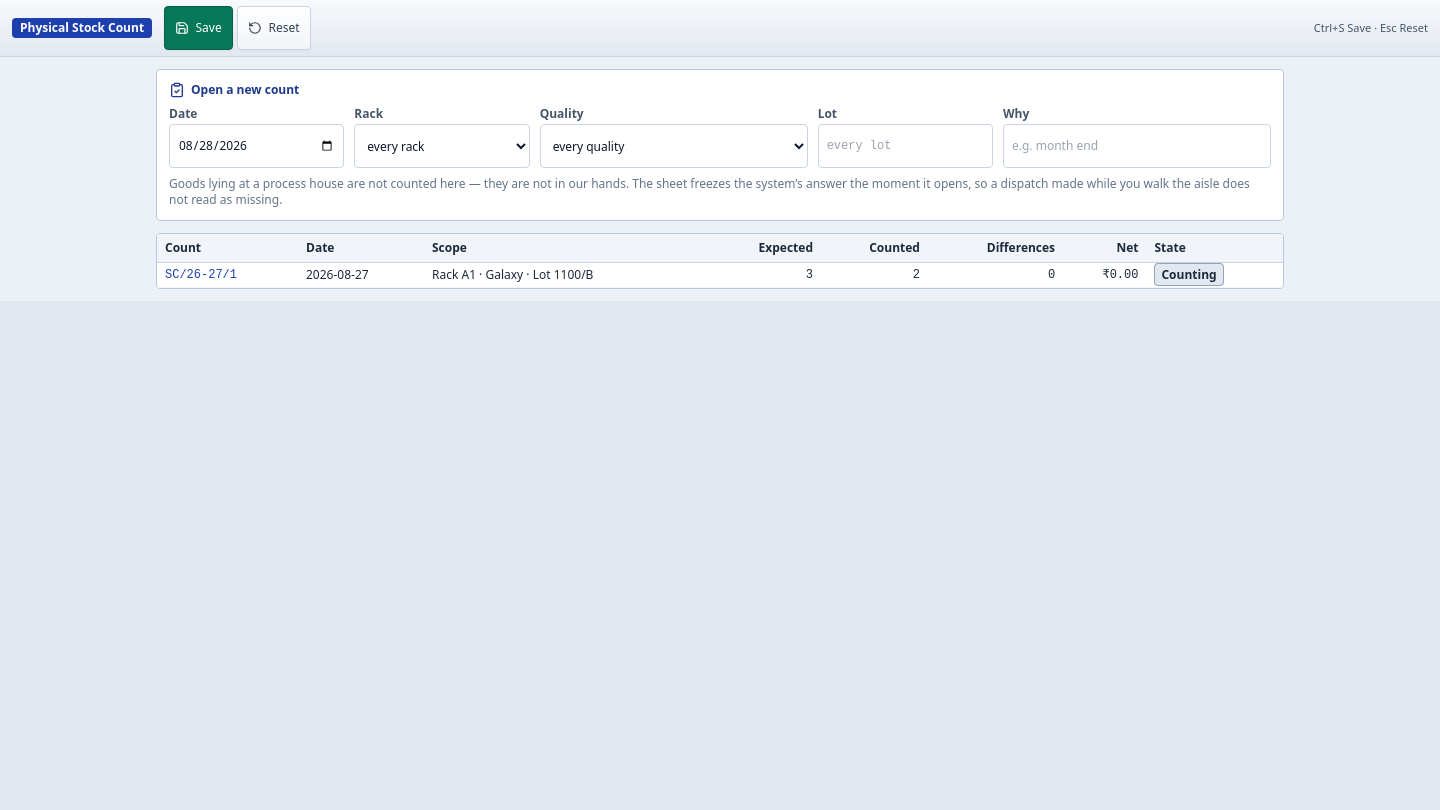
Test: answering the differences › nothing can be submitted until every difference has an answer and a reason
Click the text "SC/26-27/1": (228, 275) [157, 262, 298, 288]
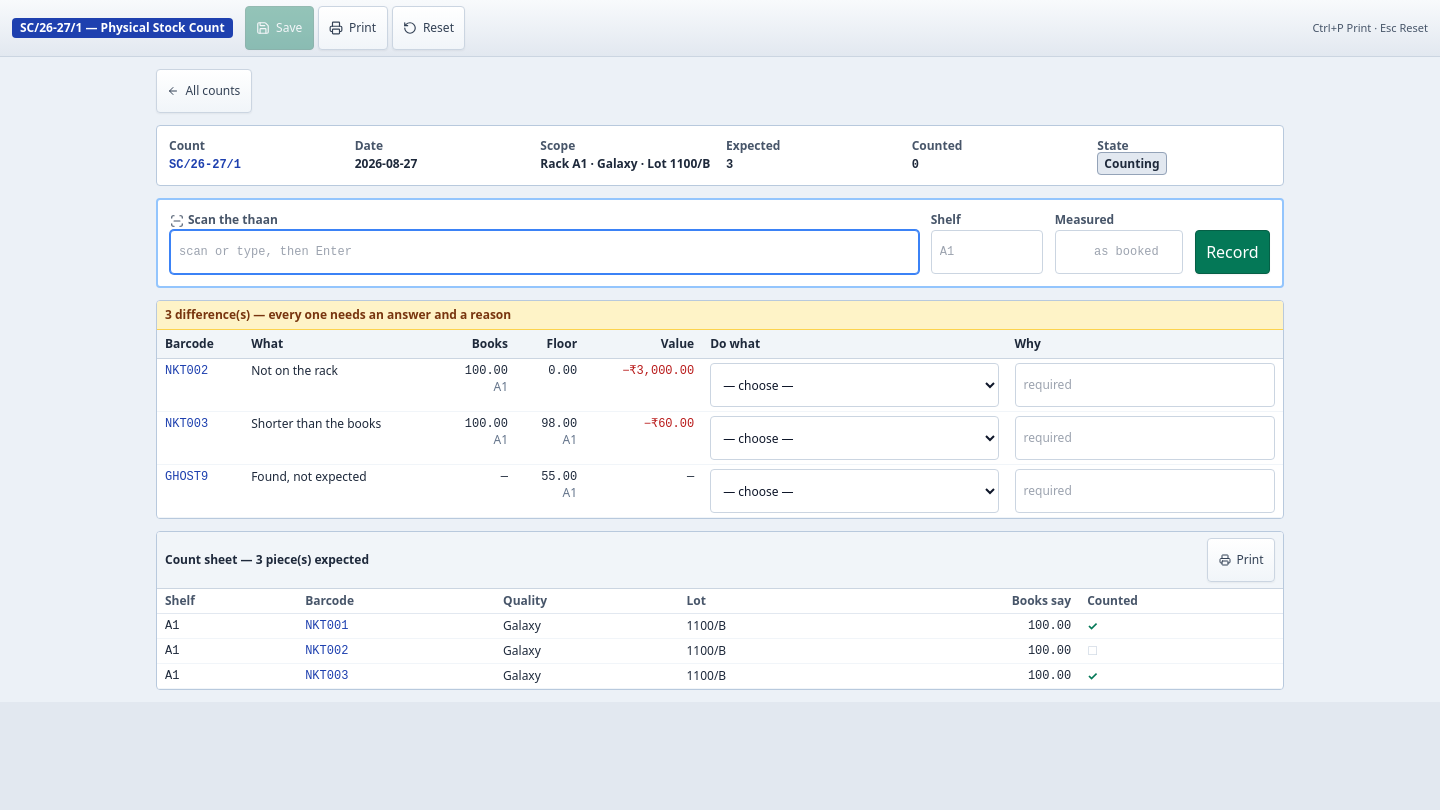
Check: the field labelled "Scan the thaan" is shown, box [170, 230, 919, 274]
Check: the button "Save" is disabled, box [245, 6, 314, 50]
Select "Write it off" in the dropdown in the row of "Not on the rack": (854, 385) [710, 363, 998, 407]
In the field with placeholder "required" in the row of "Not on the rack": (1145, 385) [1014, 363, 1275, 407], type "not in the godown"
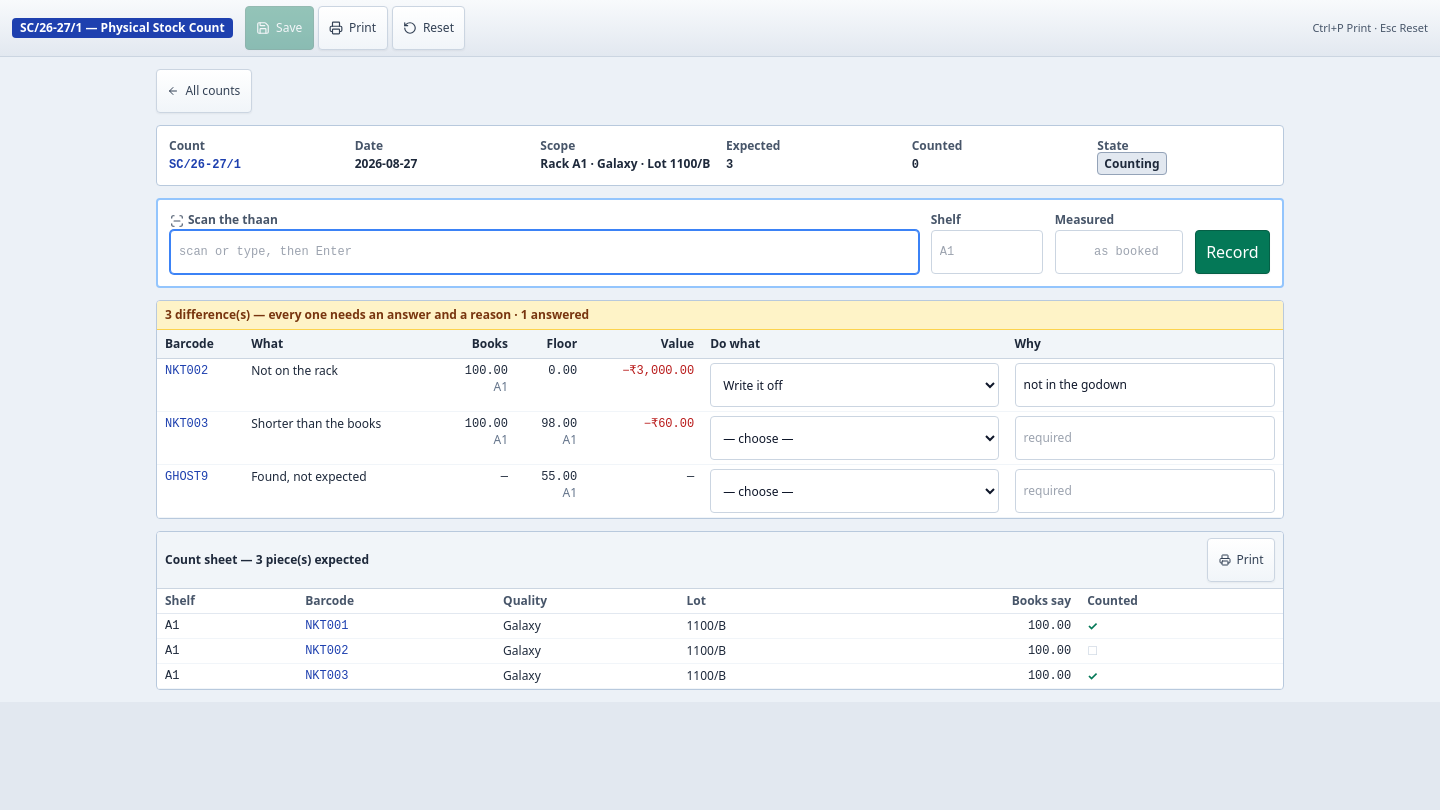
Check: the button "Save" is disabled, box [245, 6, 314, 50]
Select "Take the floor’s figure" in the dropdown in the row of "Shorter than the books": (854, 438) [710, 416, 998, 460]
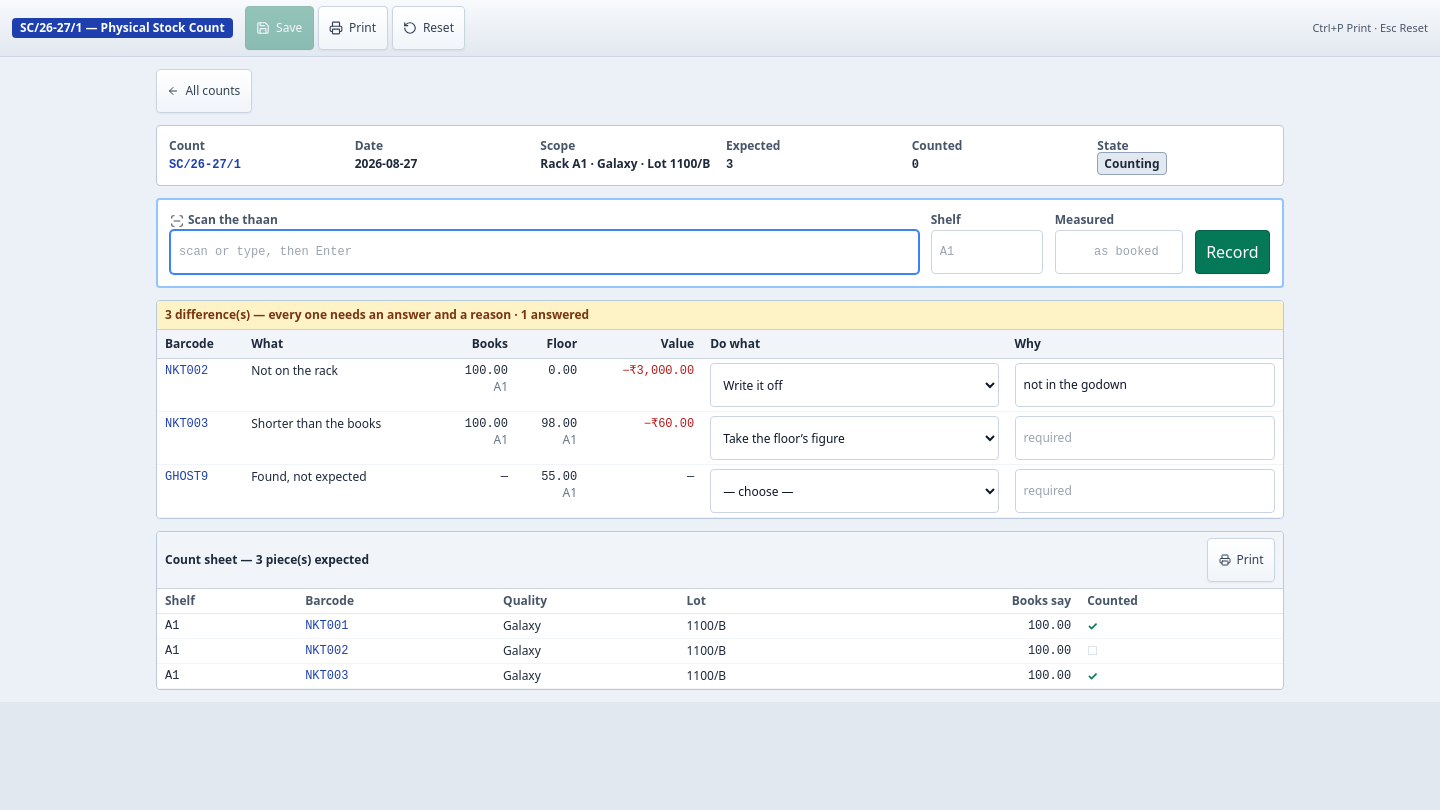
In the field with placeholder "required" in the row of "Shorter than the books": (1145, 438) [1014, 416, 1275, 460], type "tape says 98"
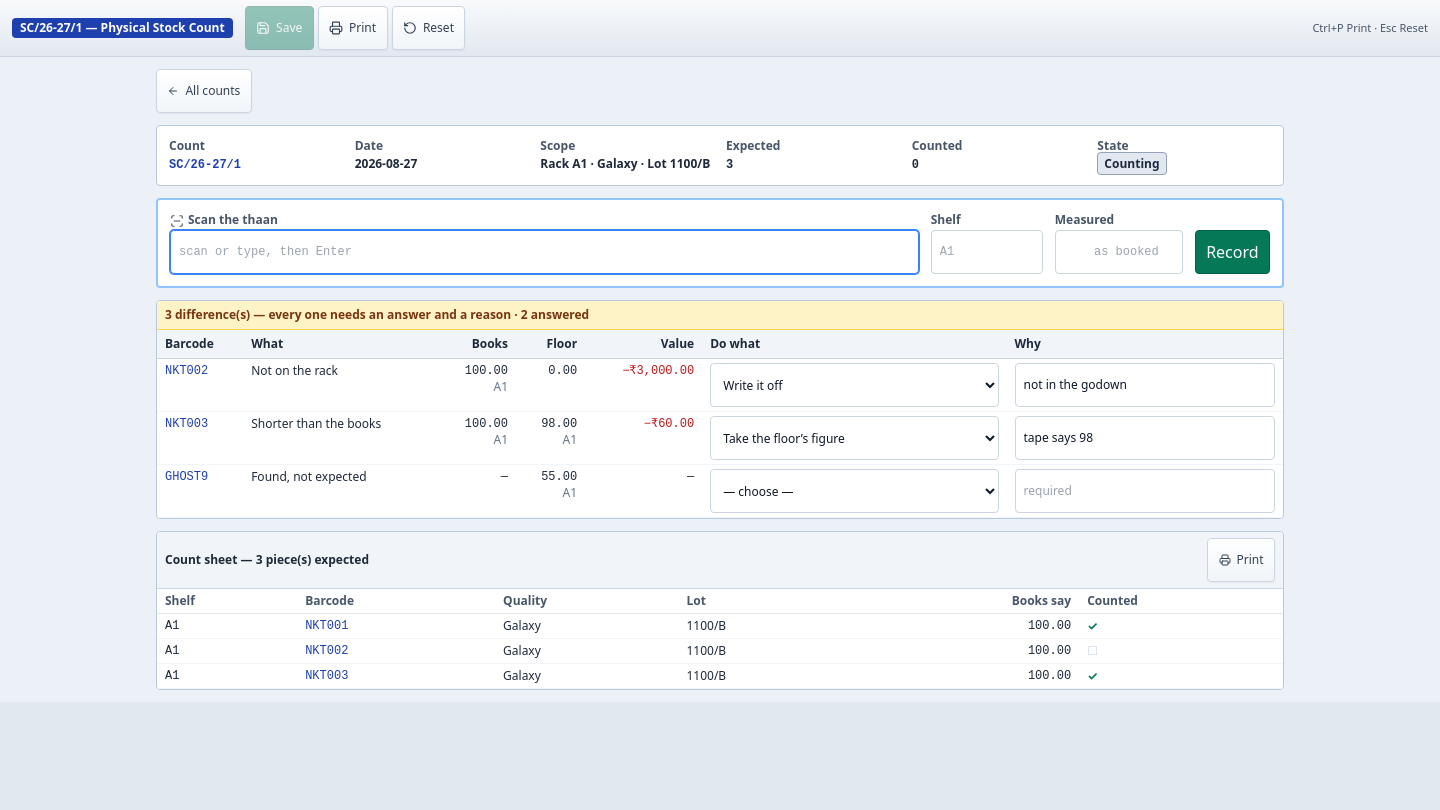
Select "Book it in separately" in the dropdown in the row of "GHOST9": (854, 491) [710, 469, 998, 513]
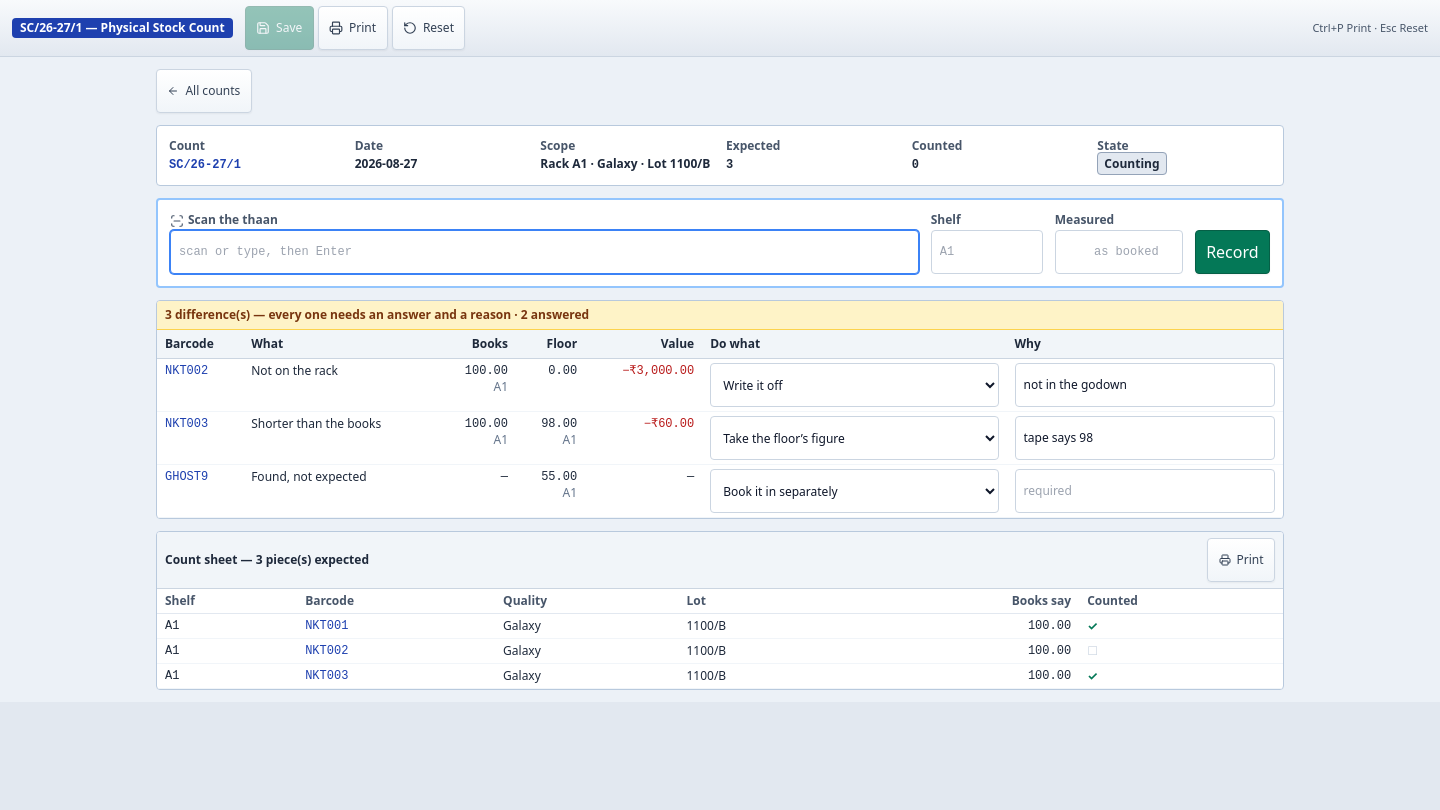
In the field with placeholder "required": (1145, 491) [1014, 469, 1275, 513], type "no challan"
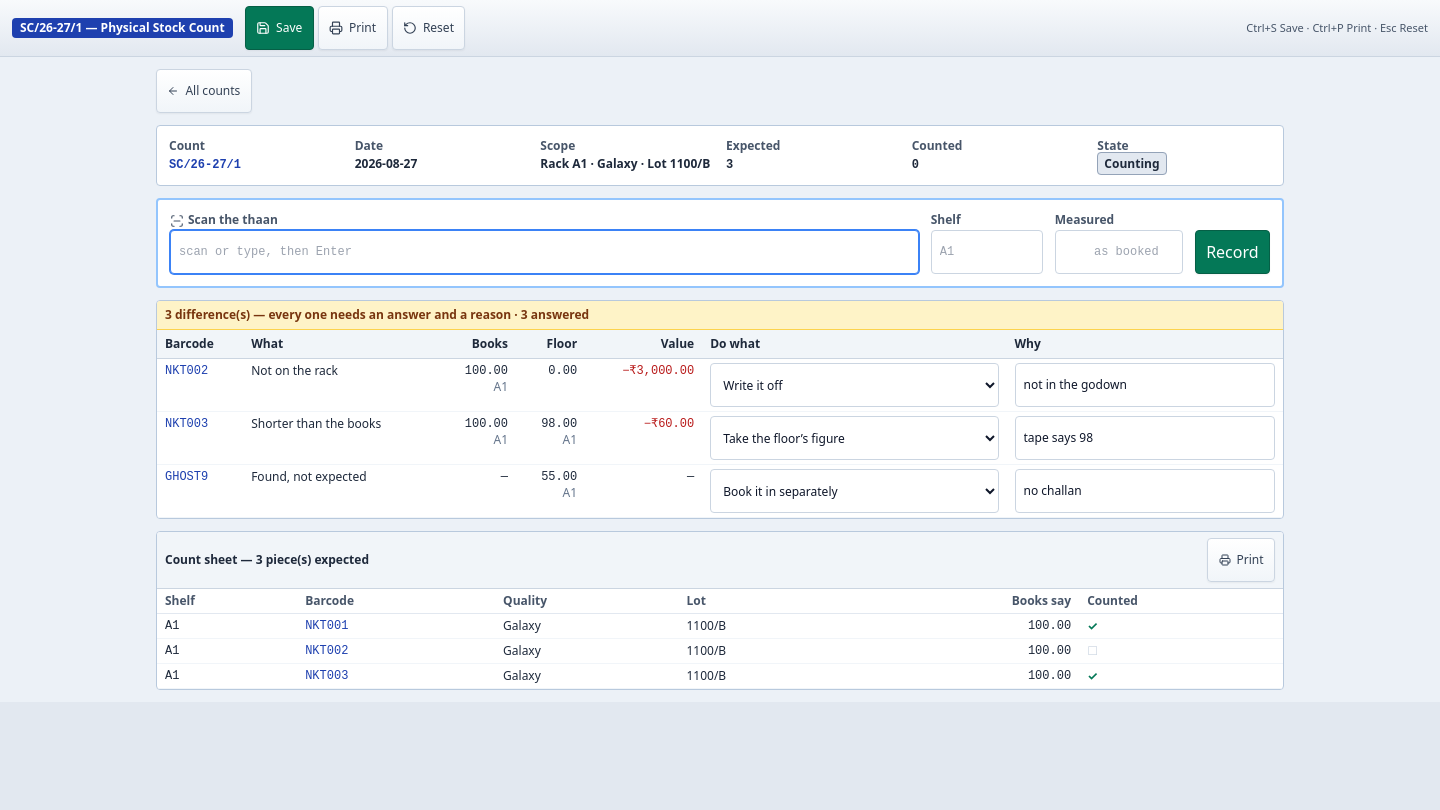
Check: the button "Save" is enabled, box [245, 6, 314, 50]
